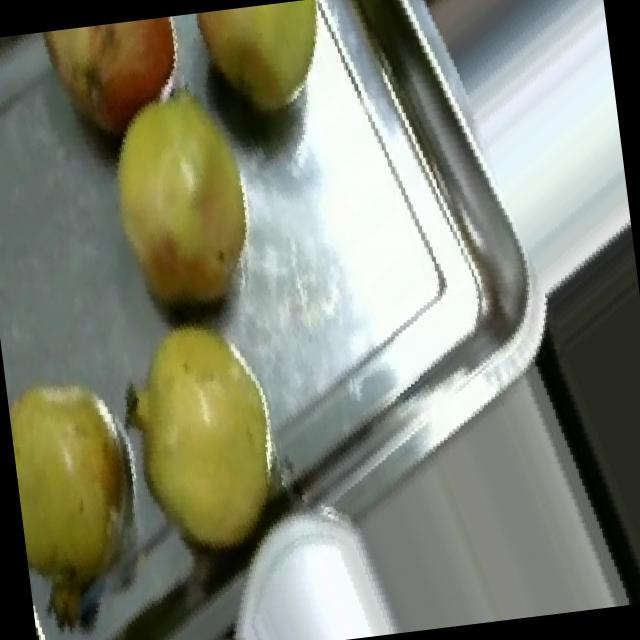fruit: (66, 52, 294, 342), (97, 284, 322, 574), (15, 12, 219, 163), (171, 0, 360, 145)
